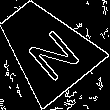N_NW: (13, 15, 78, 79)
